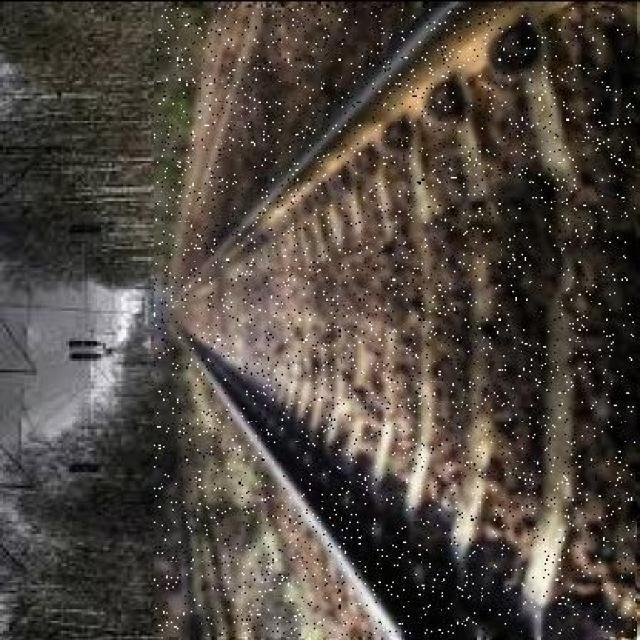rail: (156, 8, 636, 635)
